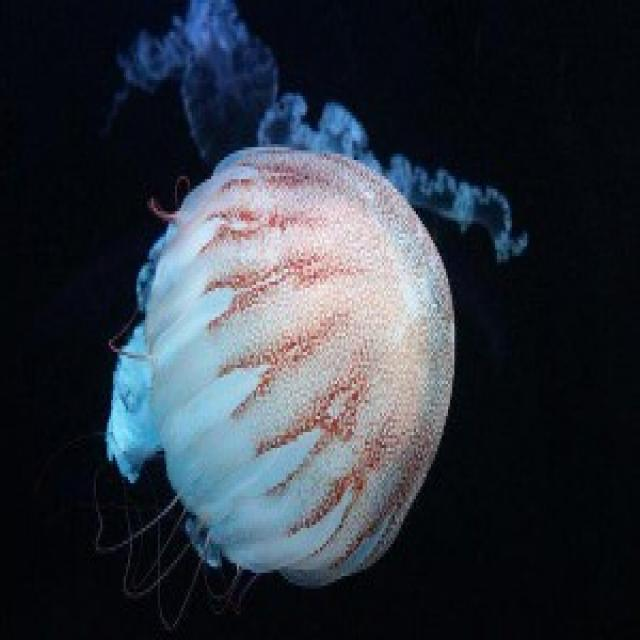Jellyfish: (80, 150, 461, 624)
